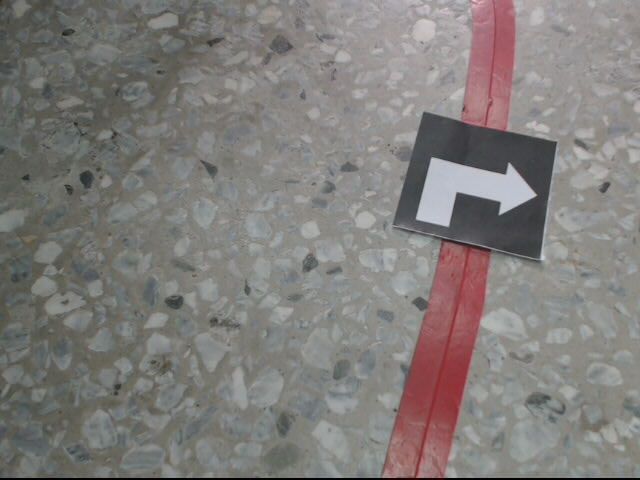right: (395, 109, 557, 260)
